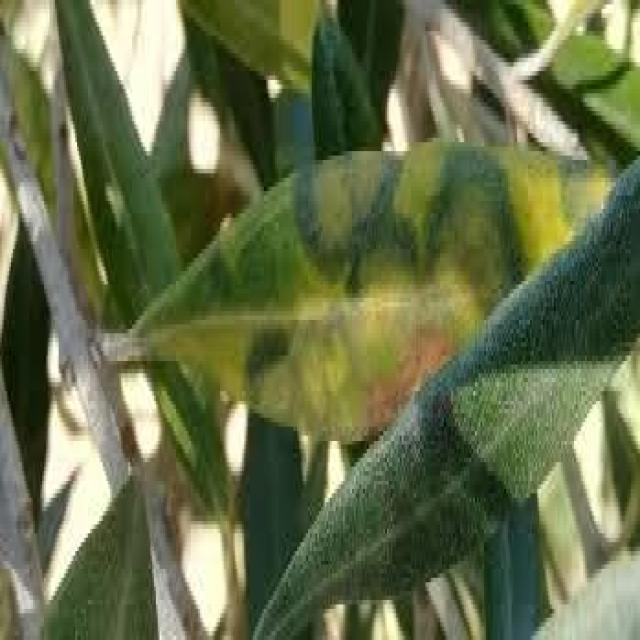OlivePeacockSpot: (143, 138, 605, 422)
